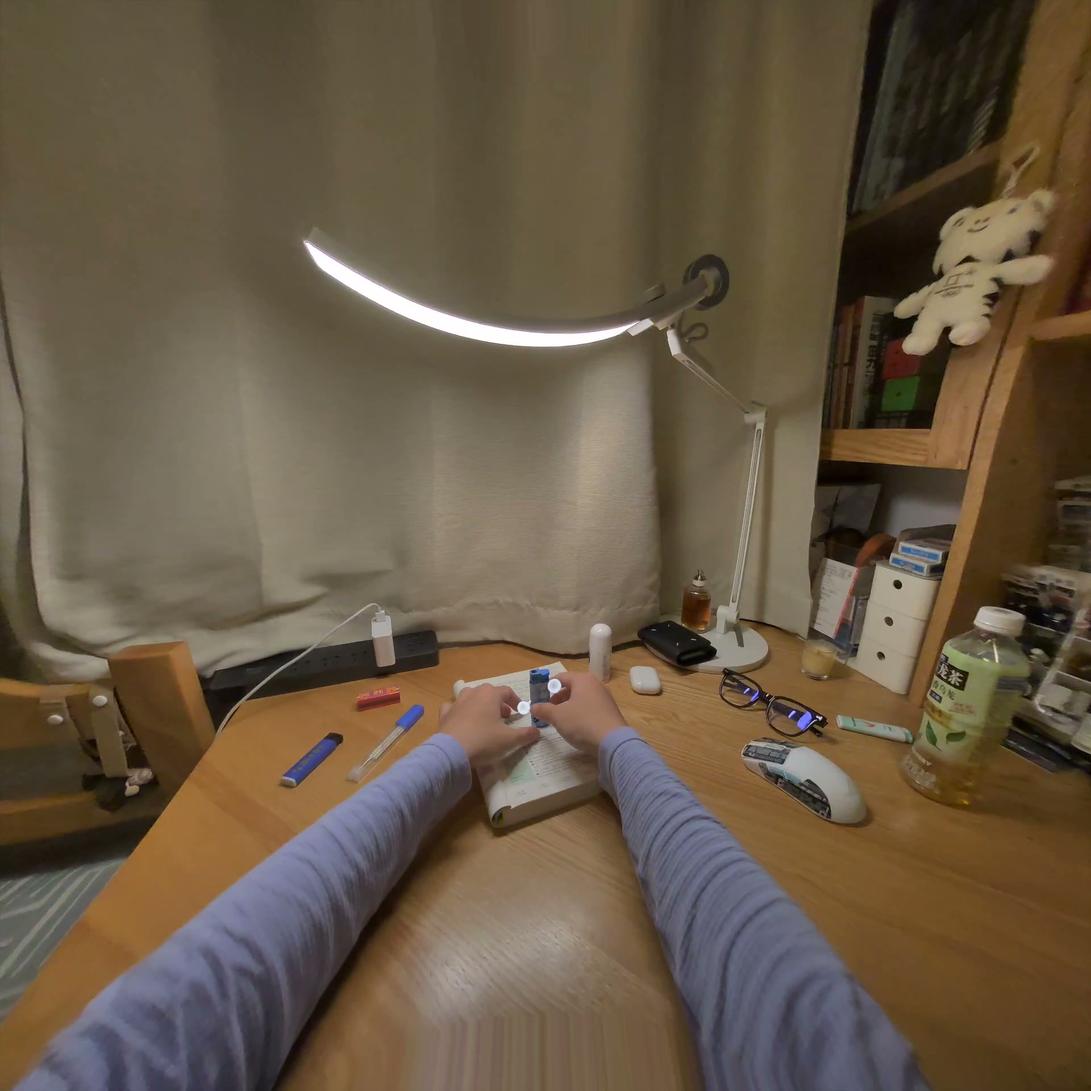lighter: (529, 668, 550, 703)
